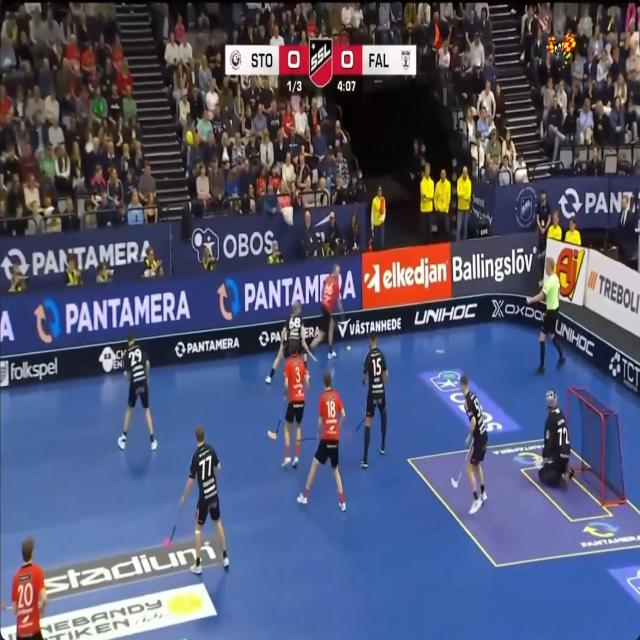Balls: (346, 345, 350, 350)
player: (181, 426, 229, 574), (297, 372, 345, 510), (117, 333, 157, 450), (526, 258, 565, 373), (460, 375, 487, 512), (11, 538, 47, 639), (265, 301, 309, 383), (361, 331, 387, 467), (537, 390, 573, 487), (282, 343, 309, 467), (310, 265, 342, 358)
stick: (451, 442, 473, 487), (164, 504, 182, 547), (267, 417, 281, 439), (354, 417, 364, 431), (0, 600, 12, 610), (307, 350, 317, 362), (300, 436, 317, 442)
